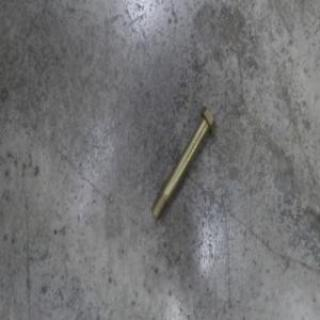Bolttrack_idkeyframe: (150, 102, 216, 221)
